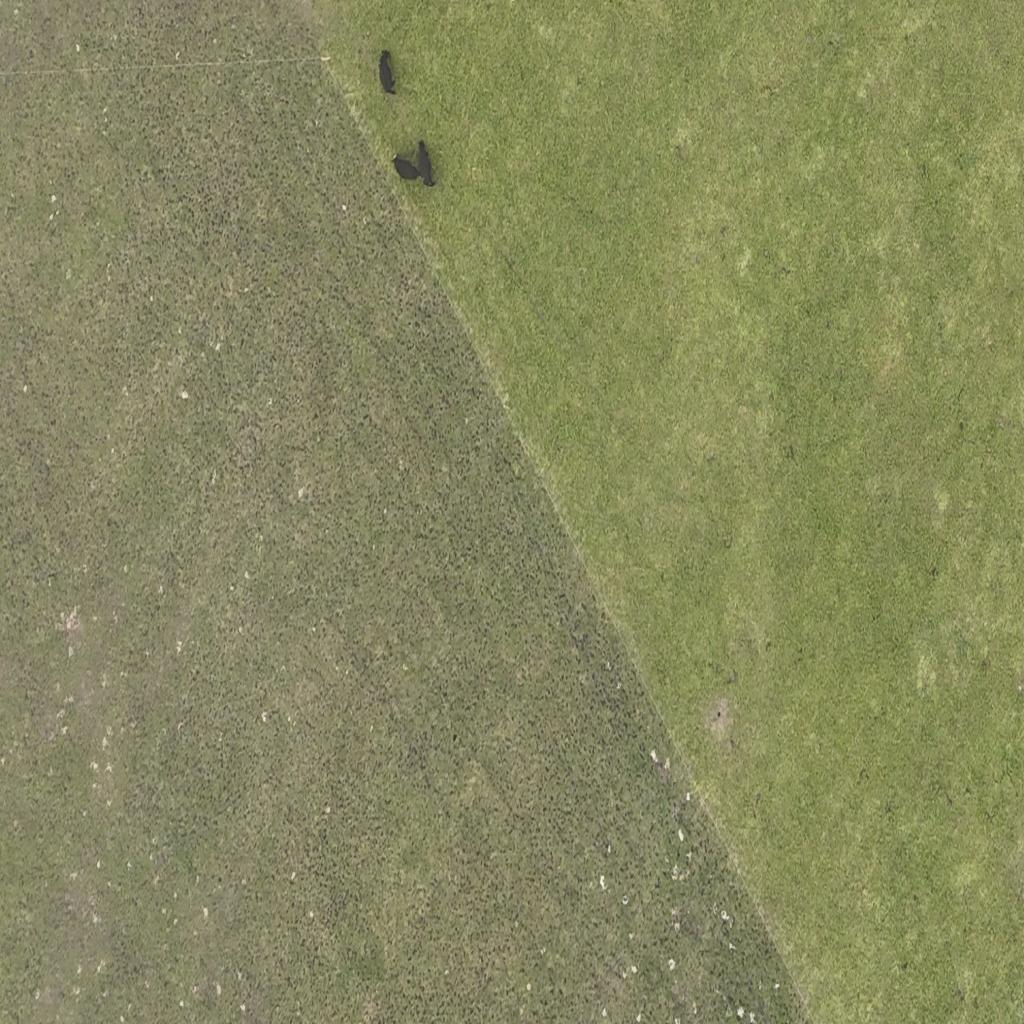cow: (394, 137, 419, 190), (415, 140, 435, 188), (378, 48, 396, 96)
